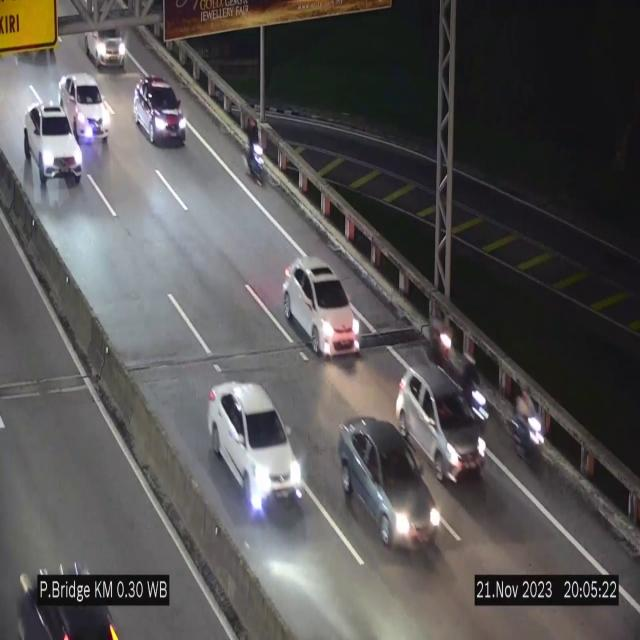Car: (339, 412, 441, 559), (208, 382, 304, 513), (397, 363, 487, 493), (15, 550, 132, 640), (283, 258, 360, 356), (22, 104, 83, 186), (134, 75, 187, 145), (60, 73, 107, 148), (80, 13, 132, 74)
Motorcycle: (515, 380, 547, 486), (464, 350, 491, 443), (243, 116, 267, 191), (429, 302, 455, 370)
